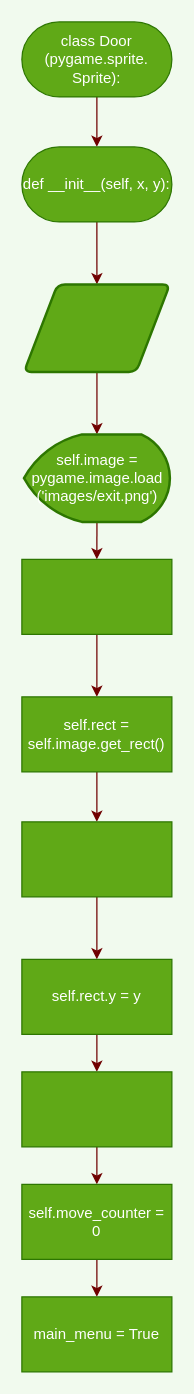
This 194x1394 diagram has some shape labels left out. Each missing label, with the box of its shape:
pygame. sprite. Sprite.__init__ (self): (22, 282, 170, 372)
self.image = pygame.transform. scale(img, (tile_size, tile_size)): (21, 558, 172, 634)
self.move_direction = 1: (21, 1071, 172, 1147)
self.rect.x = x: (21, 821, 172, 897)
